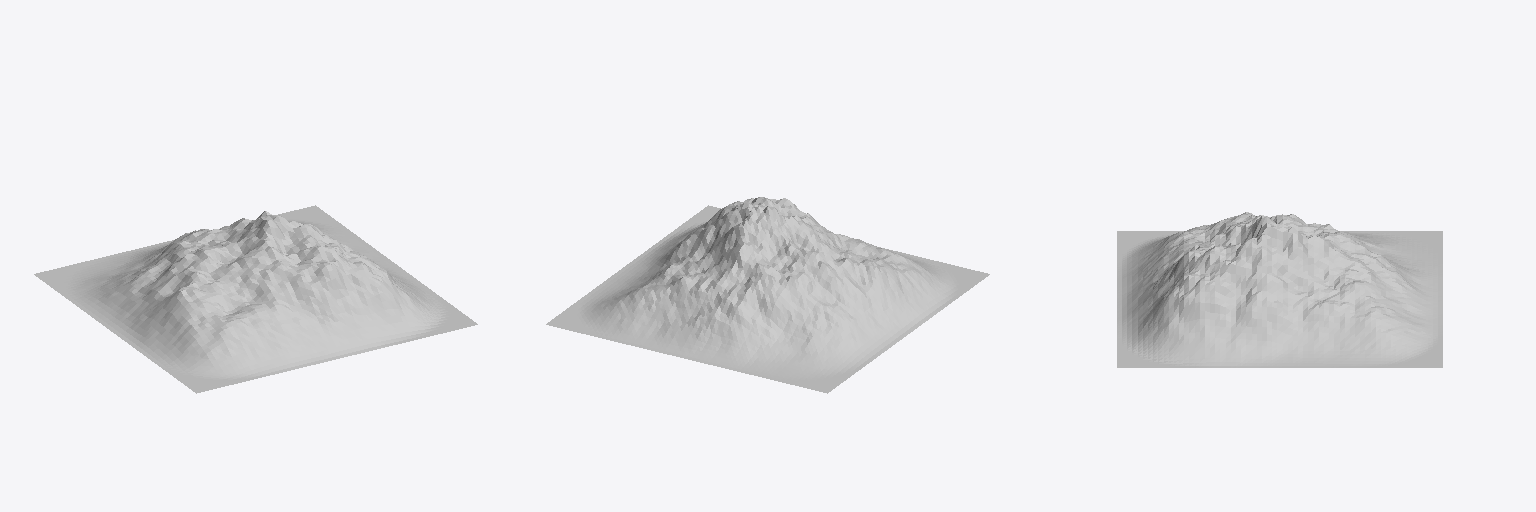
Rendered from coco.obj.
3 views of the same model, side by side, from view 1: azimuth 30°, elevation 25°; view 2: azimuth 150°, elevation 25°; view 3: azimuth 270°, elevation 25° (orthographic).
Visible parts, largest first — view 1: Landscape.001; view 2: Landscape.001; view 3: Landscape.001.
Boxes of the visible parts, x1=… form: Landscape.001: x1=34, y1=205, x2=477, y2=393; Landscape.001: x1=546, y1=197, x2=989, y2=393; Landscape.001: x1=1117, y1=212, x2=1442, y2=367.
Size of the model in its own units: 2 by 0.5882 by 2.